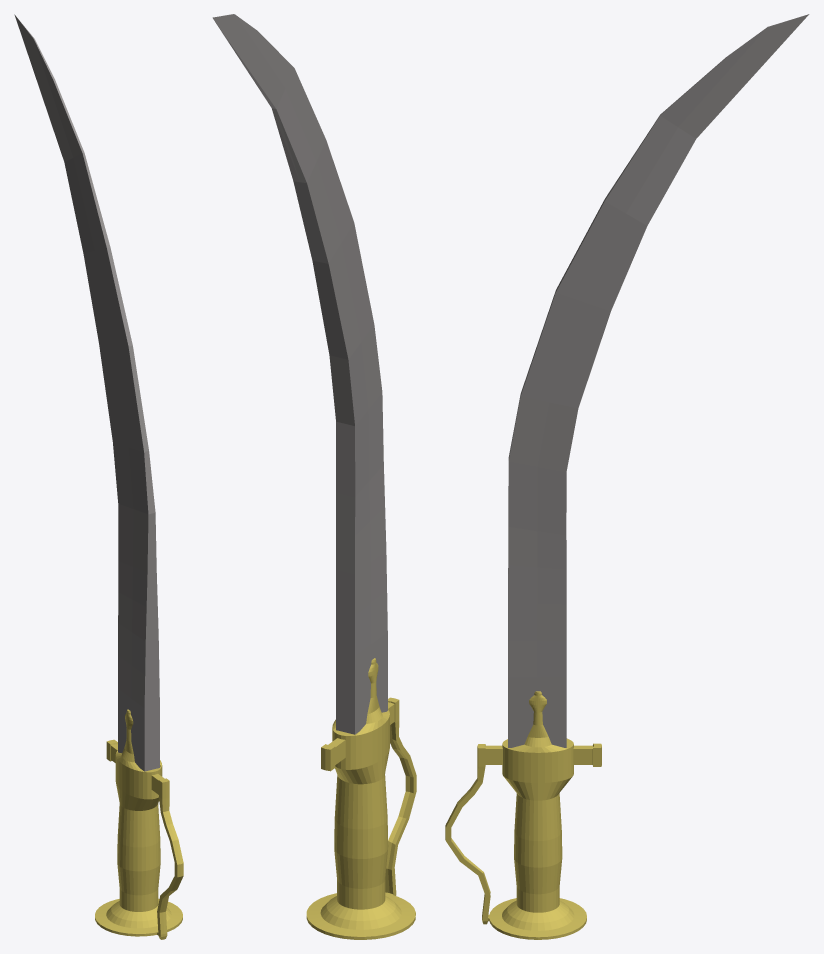
The model's file is Talwar.fbx.
The picture shows the model from 3 angles, left to right: view 1: azimuth 30°, elevation 25°; view 2: azimuth 150°, elevation 25°; view 3: azimuth 270°, elevation 25°; orthographic projection. The views are drawn at different scales.
Visible parts, largest first — view 1: Blade, Hilt; view 2: Blade, Hilt; view 3: Blade, Hilt.
Boxes of the visible parts, box(x1,y1,x2,y2) form: Blade: box(14, 14, 159, 771); Hilt: box(95, 709, 183, 939); Blade: box(212, 14, 387, 734); Hilt: box(306, 658, 416, 939); Blade: box(508, 14, 809, 747); Hilt: box(445, 691, 601, 939).
Bounding box in the file's own units: 200 × 2080 × 744.
